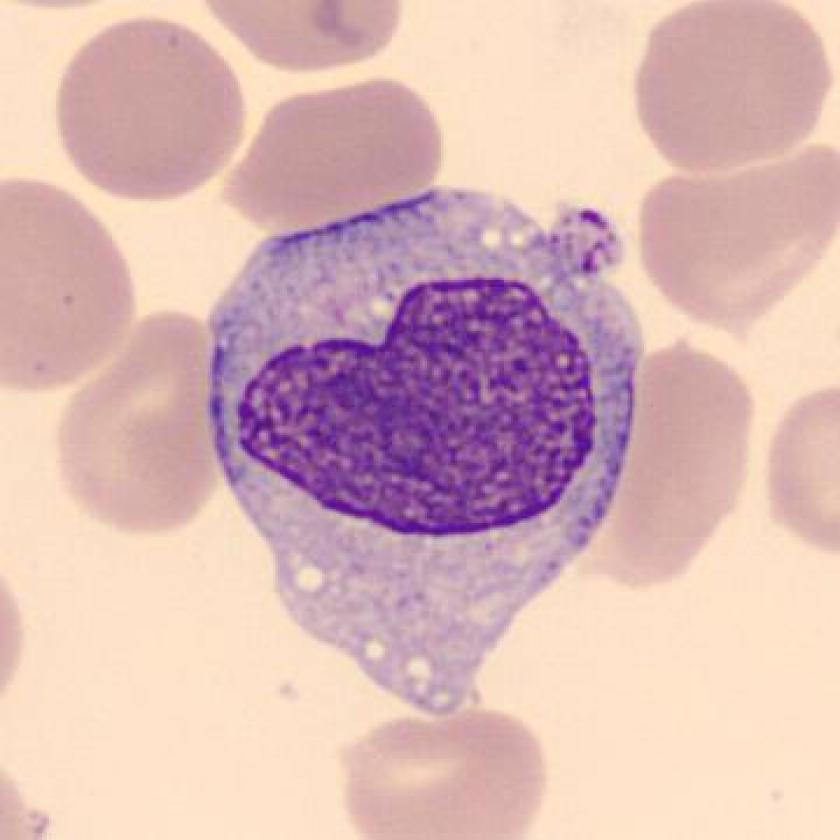monocyte: (193, 165, 662, 737)
